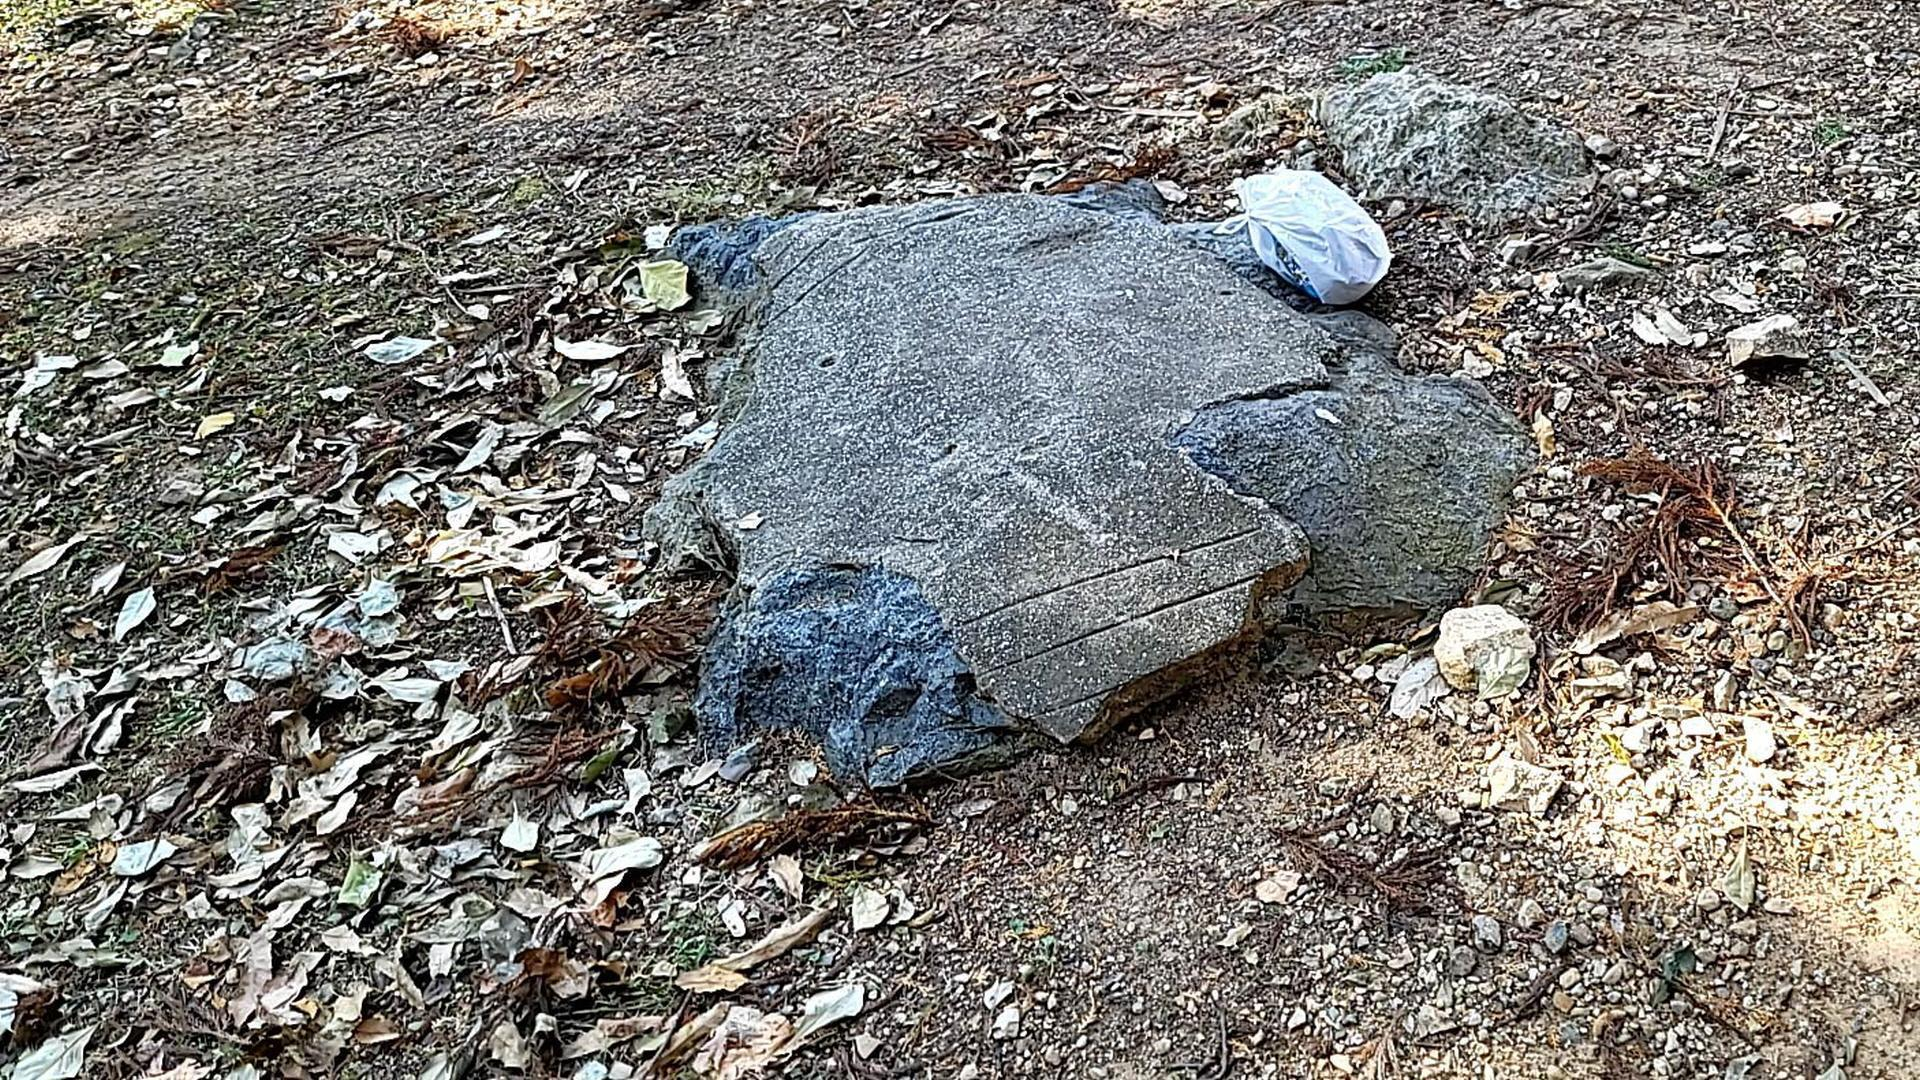white_bag: (1203, 162, 1404, 316)
